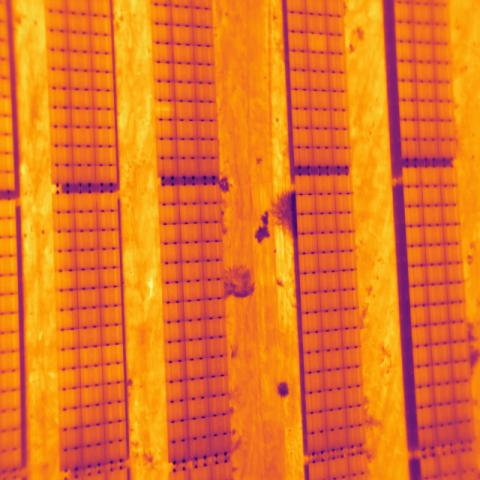fault: (154, 100, 176, 121), (308, 32, 327, 53)
